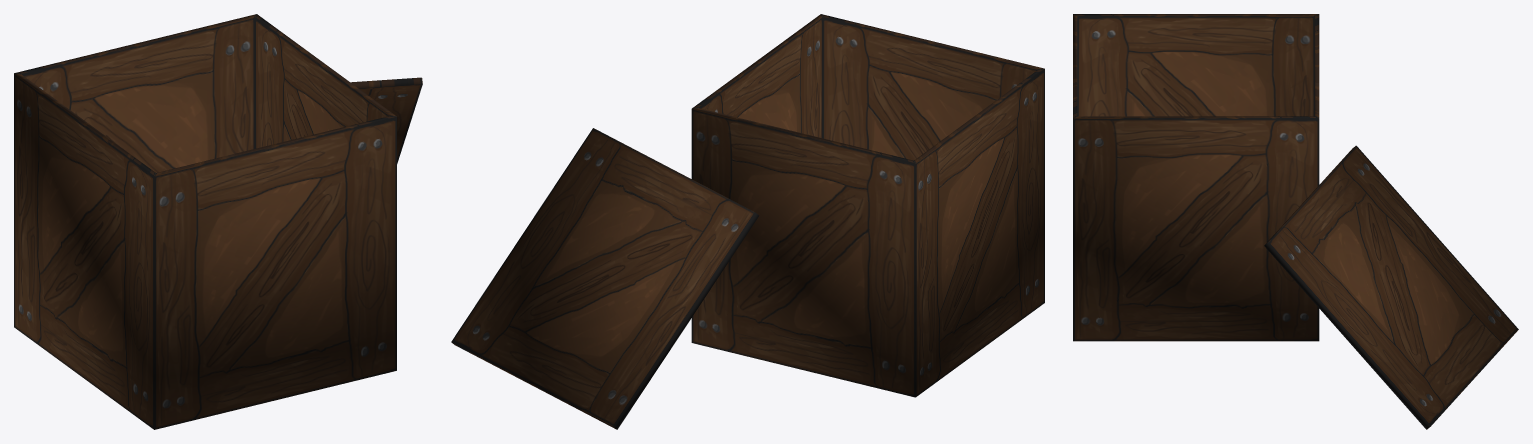
File: Crate_3.fbx
3 views of the same model, side by side, from view 1: azimuth 30°, elevation 25°; view 2: azimuth 150°, elevation 25°; view 3: azimuth 270°, elevation 25° (orthographic). The views are drawn at different scales.
Visible parts, largest first — view 1: Crate_3; view 2: Crate_3; view 3: Crate_3.
Boxes of the visible parts, x1=… form: Crate_3: x1=14, y1=14, x2=422, y2=429; Crate_3: x1=451, y1=14, x2=1044, y2=429; Crate_3: x1=1073, y1=14, x2=1518, y2=429.
Bounding box in the file's own units: 1.81 × 1.02 × 1.81.
